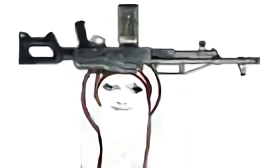dragon: (102, 82, 144, 112)
